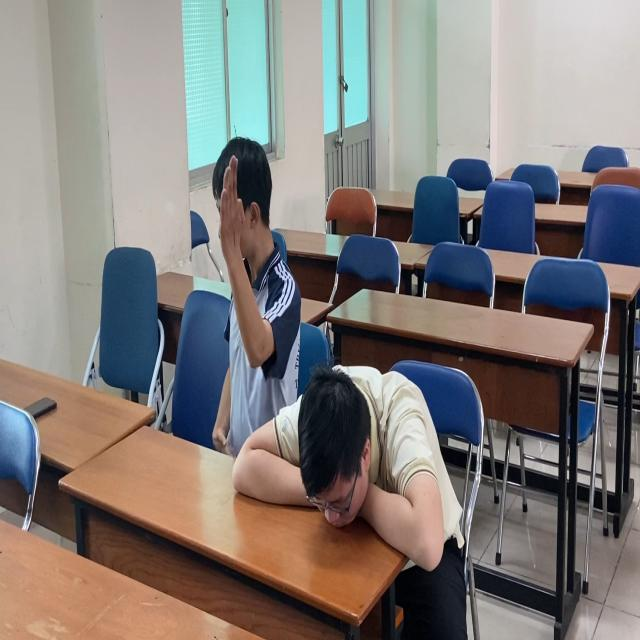raise_hand: (207, 132, 305, 459)
sleep: (249, 355, 459, 560), (194, 123, 196, 124)
